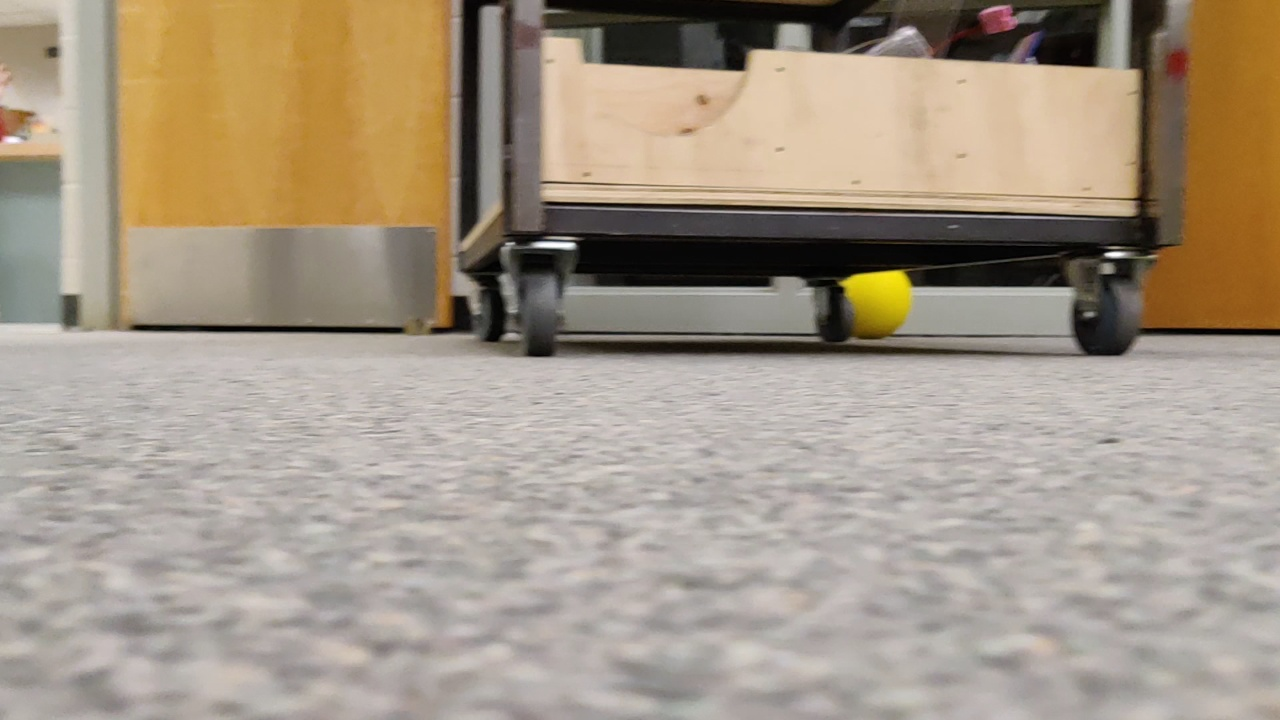Ball: (824, 266, 920, 344)
